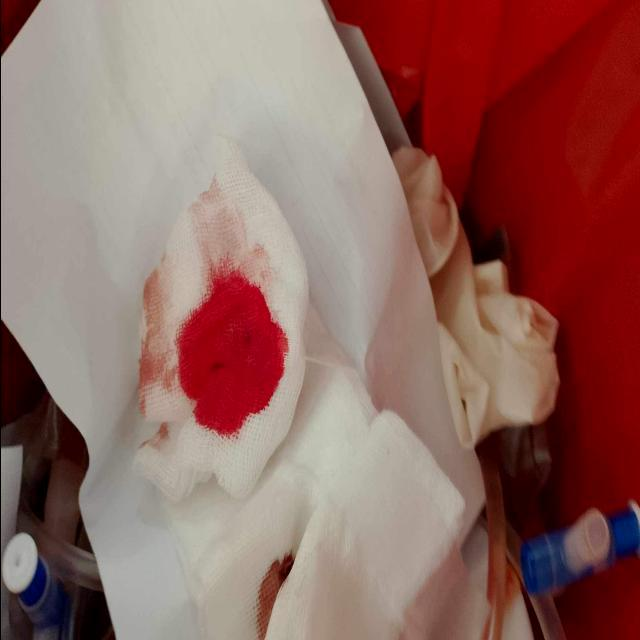Infectious: (131, 134, 310, 503)
Pathological: (2, 1, 557, 637)
Sharps: (517, 497, 639, 599)
